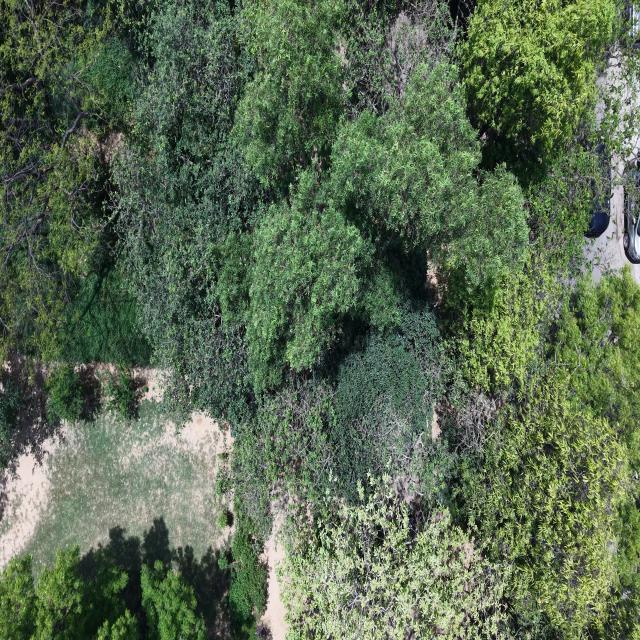DRY_AREA: (0, 370, 232, 573), (0, 402, 230, 572), (583, 132, 639, 283), (583, 186, 639, 283), (263, 518, 285, 639)
VEGETATION_TREE: (0, 0, 639, 639), (116, 3, 526, 421), (454, 271, 639, 637), (116, 2, 263, 420), (232, 303, 452, 535), (0, 0, 133, 359), (331, 63, 527, 298), (461, 376, 629, 637), (280, 476, 511, 639), (21, 403, 234, 578), (554, 270, 639, 637), (0, 520, 260, 639), (245, 171, 373, 389), (461, 0, 624, 162), (234, 0, 343, 192), (0, 548, 205, 639), (554, 270, 639, 464), (0, 548, 138, 639), (453, 263, 549, 393), (526, 128, 610, 274), (0, 352, 95, 480), (61, 266, 150, 366), (44, 363, 139, 423), (141, 560, 206, 639), (229, 525, 268, 621), (46, 364, 83, 421), (0, 382, 21, 469), (104, 368, 138, 420), (216, 508, 232, 530)
